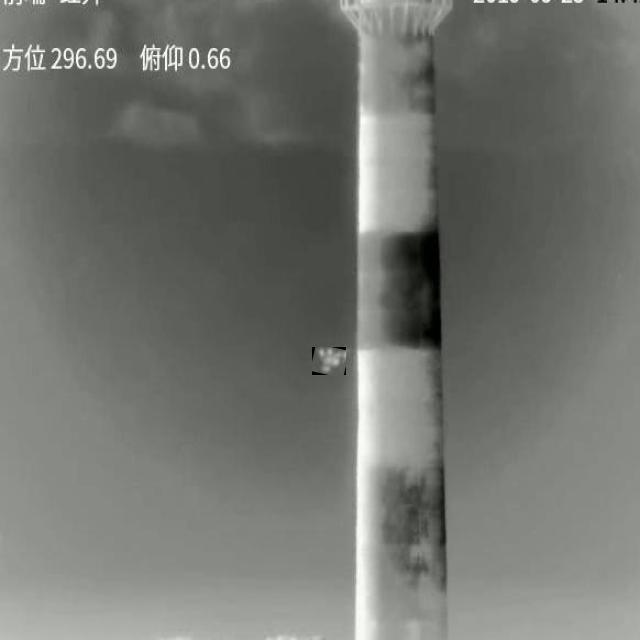drone: (315, 347, 346, 375)
